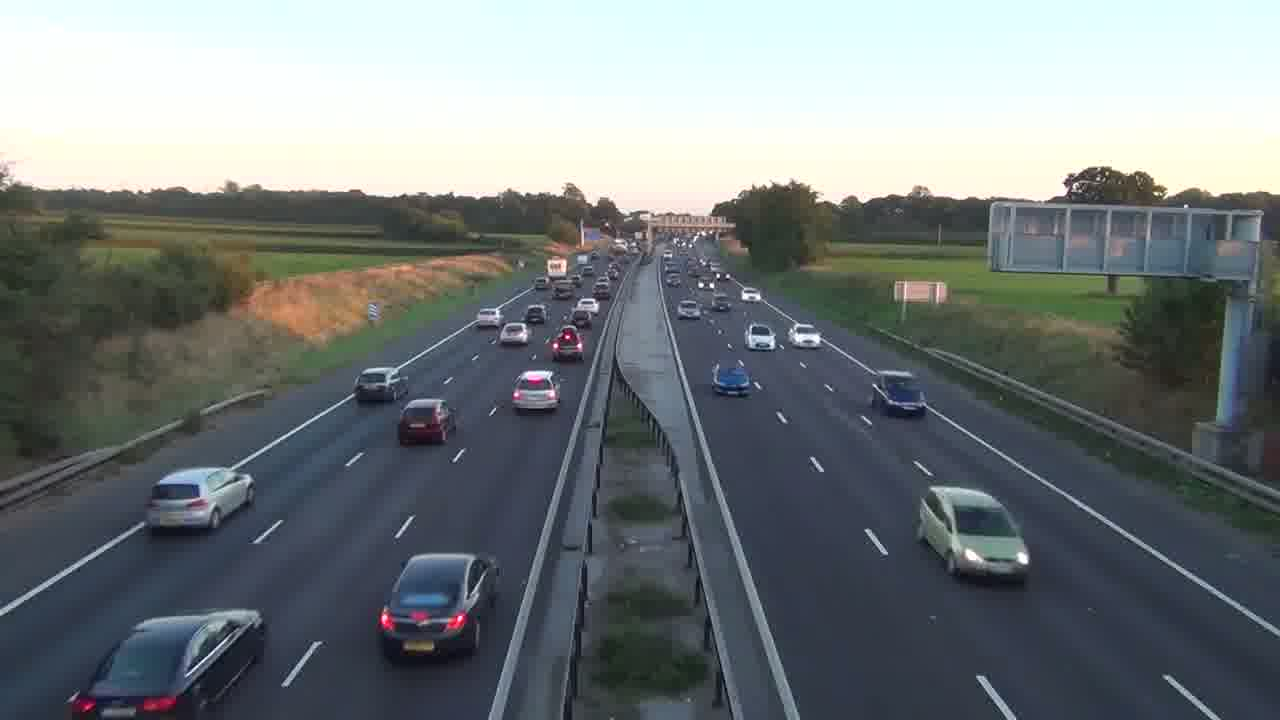car: (66, 608, 267, 718), (375, 552, 500, 662), (914, 484, 1030, 582), (144, 465, 256, 534), (397, 397, 453, 445), (511, 368, 560, 413), (353, 365, 410, 403), (711, 359, 753, 397), (548, 326, 584, 363), (745, 321, 778, 351), (788, 322, 822, 349), (498, 321, 529, 345)
